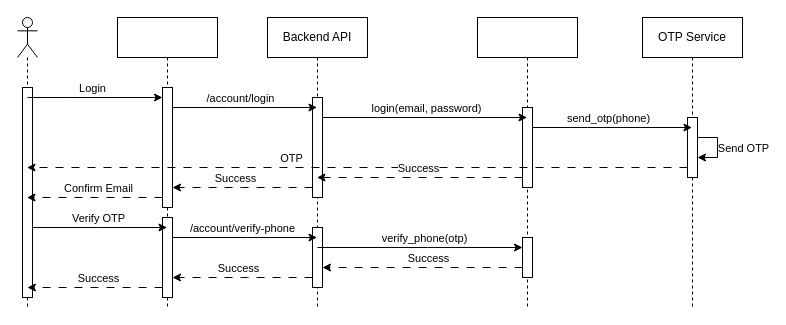
The diagram is 786 pixels wide and 325 high, and some of its shapes have lost their labels. The shapes that lost their labels are listed below. From the top down, each one's box as (x1, y1, x2, y2) in pixels, then its label:
(116, 16, 218, 308): Web UI
(476, 16, 578, 308): :User
